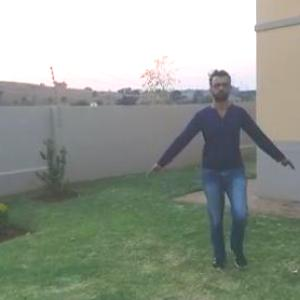land: (148, 82, 280, 251)
